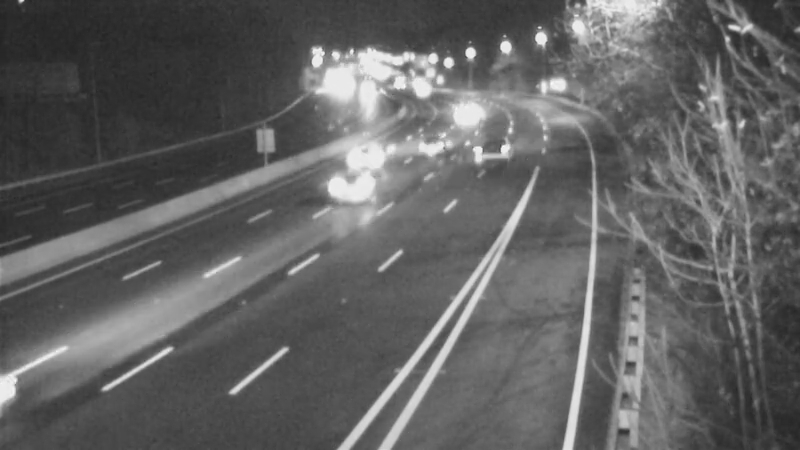vehicle: (1, 336, 89, 446), (336, 118, 416, 198), (317, 155, 397, 235), (397, 65, 447, 115), (445, 77, 495, 127), (441, 87, 491, 137), (411, 120, 461, 170), (477, 124, 527, 174), (339, 68, 389, 118)
